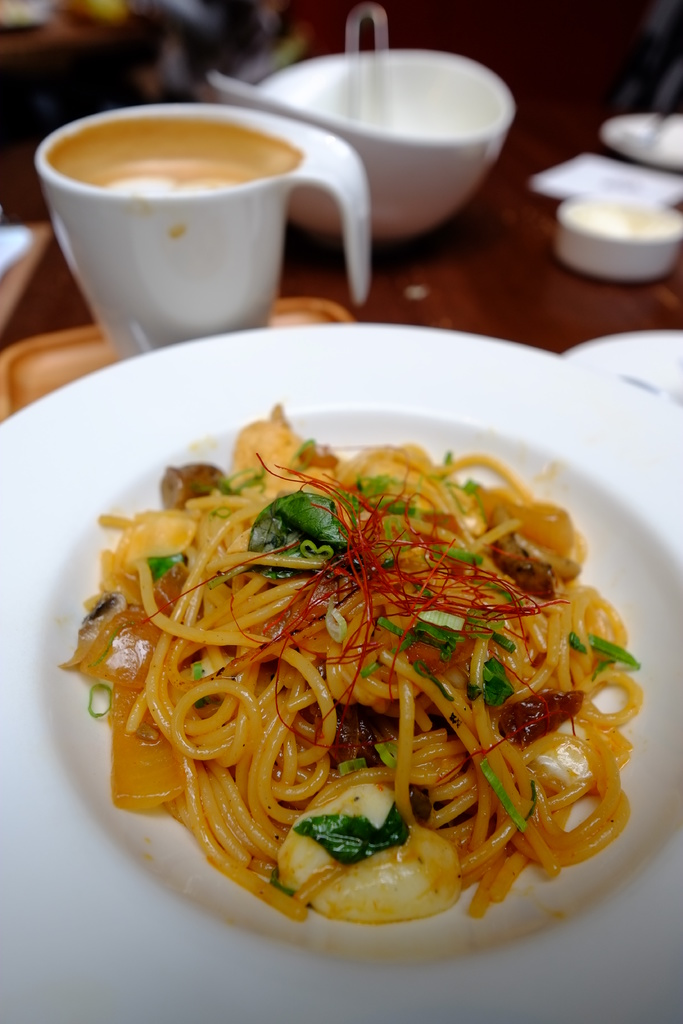pasta: (82, 397, 650, 943)
